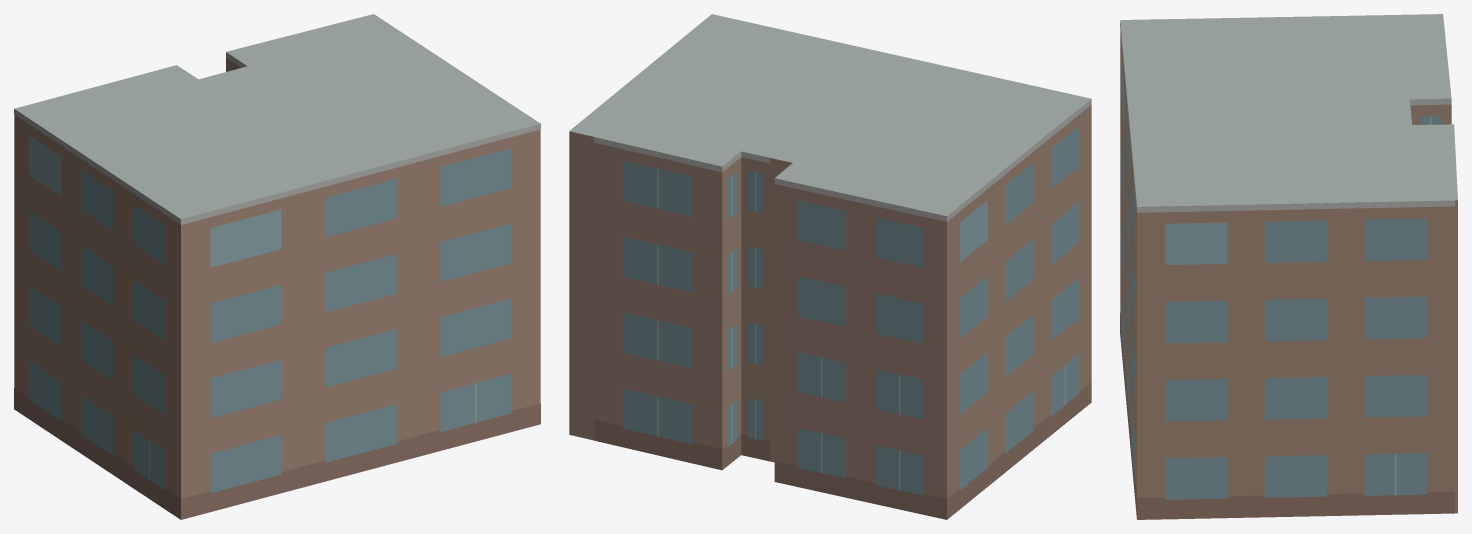
The model's file is survey-upis-32904158.glb.
3 renders of one model, left to right at view 1: azimuth 30°, elevation 25°; view 2: azimuth 150°, elevation 25°; view 3: azimuth 270°, elevation 25°, orthographic. The views are drawn at different scales.
Visible parts, largest first — view 1: survey-upis-32904158.tmp; view 2: survey-upis-32904158.tmp; view 3: survey-upis-32904158.tmp.
Part boxes in pixels (x1,y1,x2,y2): survey-upis-32904158.tmp: (14,14,540,519); survey-upis-32904158.tmp: (569,14,1091,519); survey-upis-32904158.tmp: (1120,14,1457,519).
Size of the model in its own units: 17.06 by 12.9 by 12.62.
